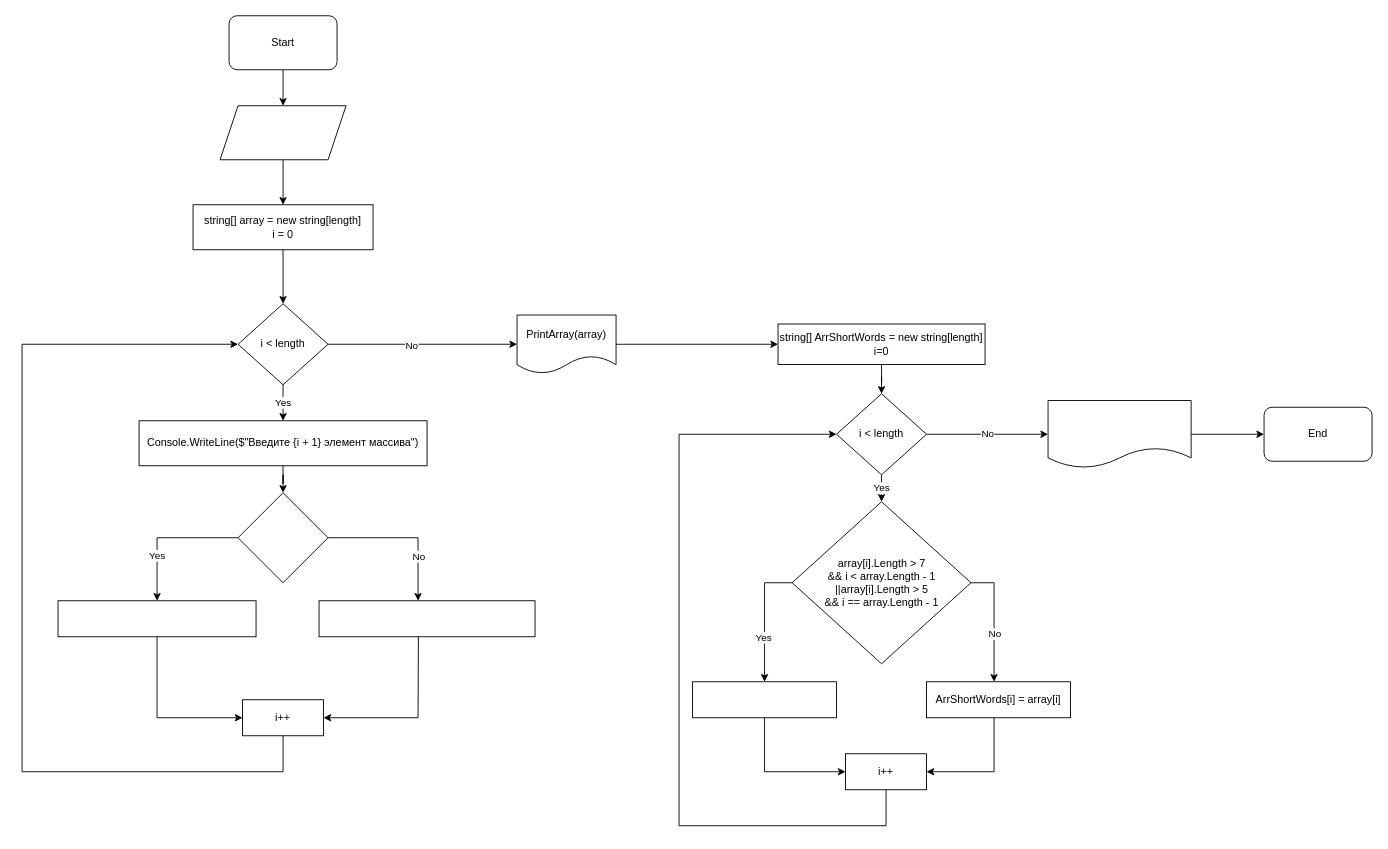
Image size: 1388x849. Some labels were removed from this diagram. The shapes that lost their labels are listed below. From the top down, each one's centre as x and y in pixels, then its label:
[282,132]: length задается пользователем с клавиатуры
[1119,434]: PrintArray(ArrShortWords)
[282,537]: i < length-1
[156,618]: array[i] = $"\"{Console.ReadLine()}\", "
[426,618]: array[i] = $"\"{Console.ReadLine()}\""
[764,699]: ArrShortWords[i] = ""
